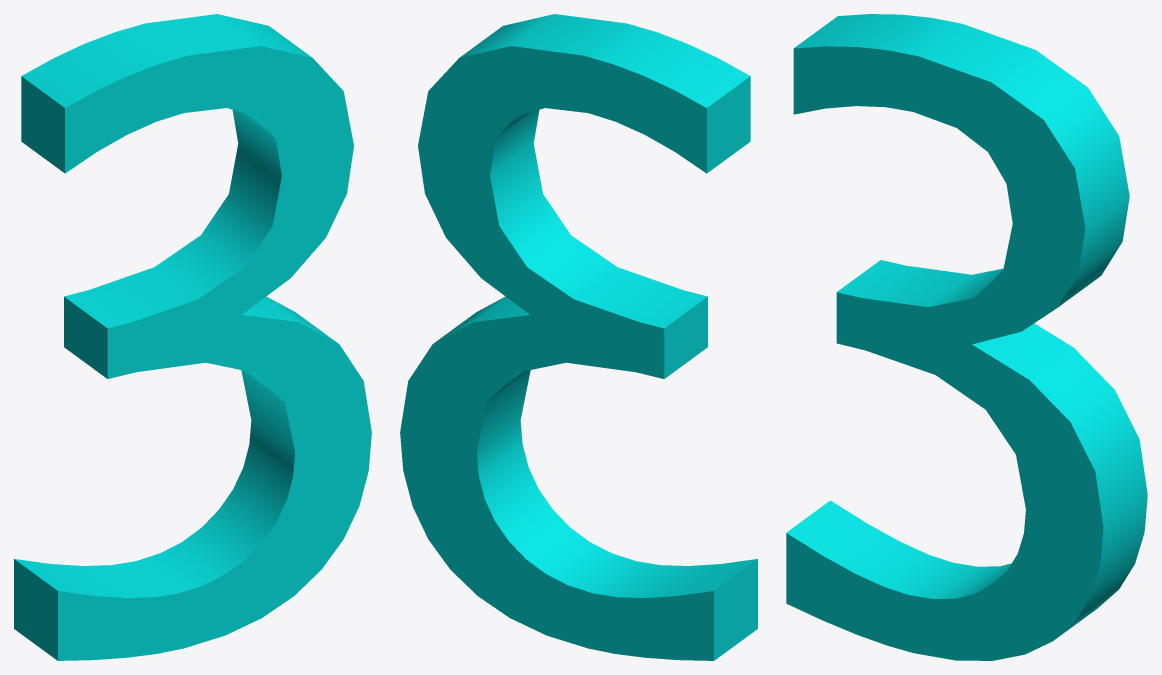
The picture shows the model from 3 angles, left to right: view 1: azimuth 30°, elevation 25°; view 2: azimuth 150°, elevation 25°; view 3: azimuth 330°, elevation 25°; orthographic projection.
Visible parts, largest first — view 1: typeMesh1; view 2: typeMesh1; view 3: typeMesh1.
Part boxes in pixels (x1=…): typeMesh1: x1=14, y1=14, x2=371, y2=660; typeMesh1: x1=400, y1=14, x2=757, y2=660; typeMesh1: x1=786, y1=14, x2=1147, y2=660.
Size of the model in its own units: 6.18 by 11.13 by 1.49.
